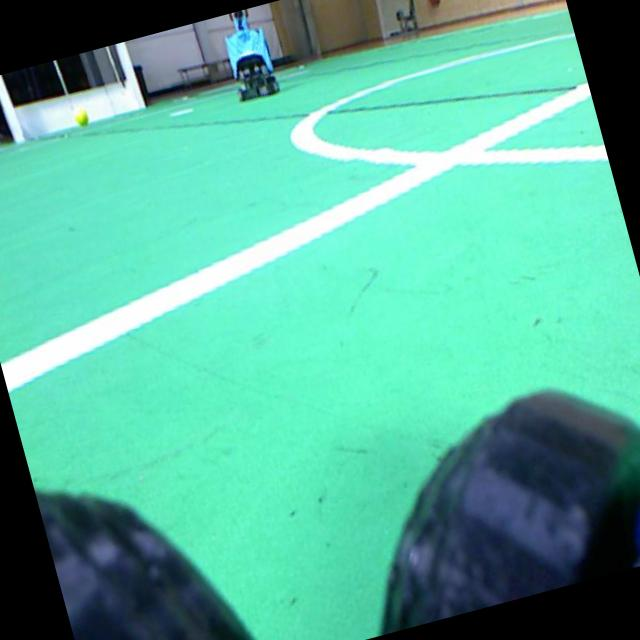ball: (73, 108, 87, 125)
goal: (115, 41, 144, 107), (0, 74, 24, 143)
